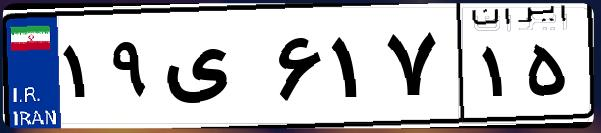1: (330, 28, 385, 110), (57, 26, 110, 100), (475, 38, 525, 113)
5: (525, 38, 570, 115)
6: (270, 28, 330, 110)
7: (385, 28, 445, 110)
9: (110, 28, 158, 98)
ی: (158, 20, 270, 120)
